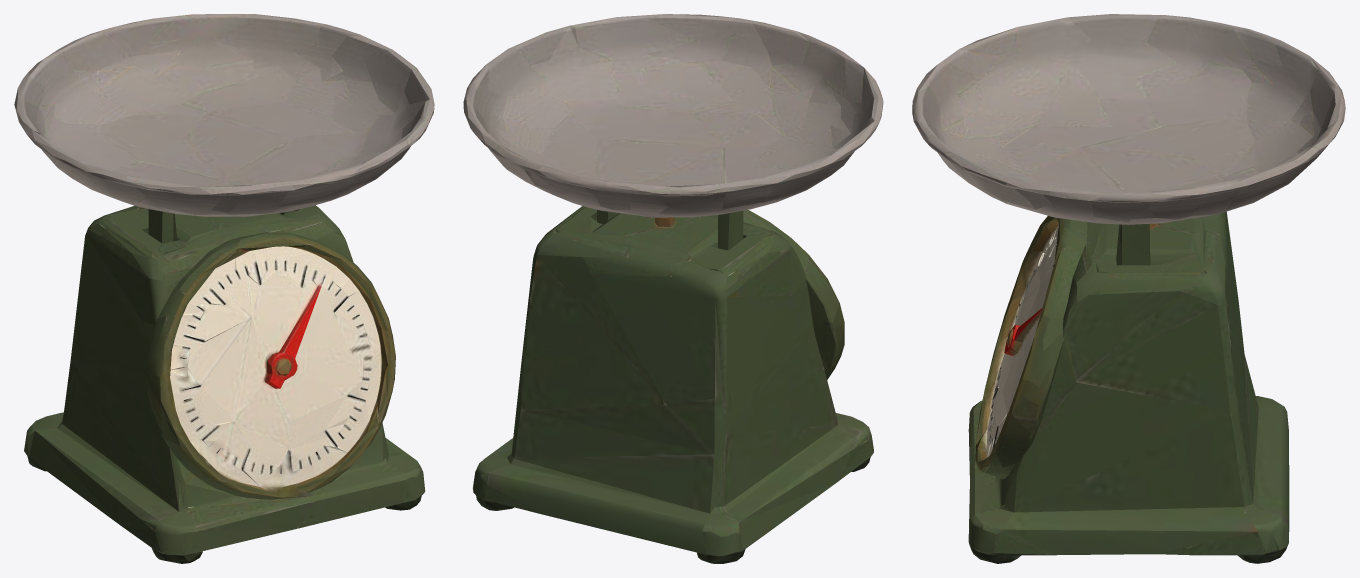
File: scale.glb
The picture shows the model from 3 angles, left to right: view 1: azimuth 30°, elevation 25°; view 2: azimuth 150°, elevation 25°; view 3: azimuth 270°, elevation 25°; orthographic projection. The views are drawn at different scales.
Visible parts, largest first — view 1: output_unwrapped; view 2: output_unwrapped; view 3: output_unwrapped.
Part boxes in pixels (x1,y1,x2,y2): output_unwrapped: (14, 14, 434, 563); output_unwrapped: (463, 14, 883, 563); output_unwrapped: (912, 14, 1345, 563).
Bounding box in the file's own units: 1.88 × 1.9 × 1.88.
1 material, 1 textured.
